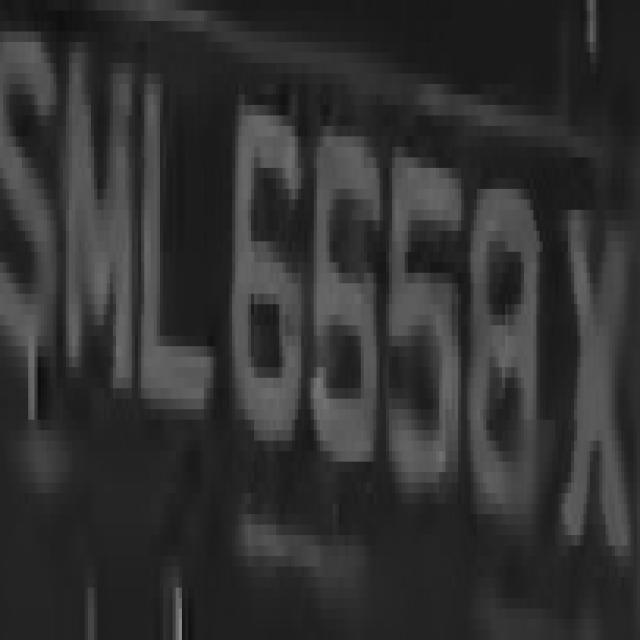5: (396, 105, 464, 504)
6: (222, 42, 310, 483), (298, 84, 386, 493)
8: (464, 147, 546, 545)
L: (132, 32, 213, 451)
M: (53, 32, 129, 367)
S: (6, 21, 56, 378)
X: (555, 126, 640, 587)
